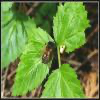Raspberry leaf: (11, 23, 56, 95), (53, 0, 93, 52), (39, 61, 84, 100)
